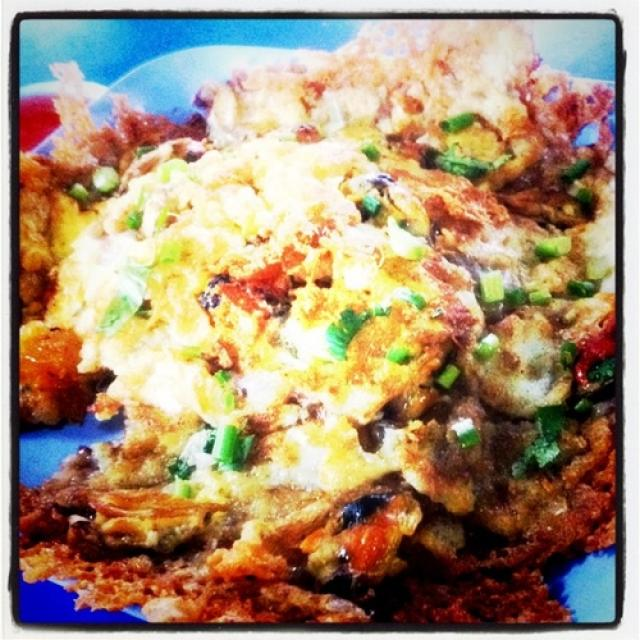炸货点心: (40, 28, 595, 599)
蛋糕甜品: (40, 28, 595, 599)
